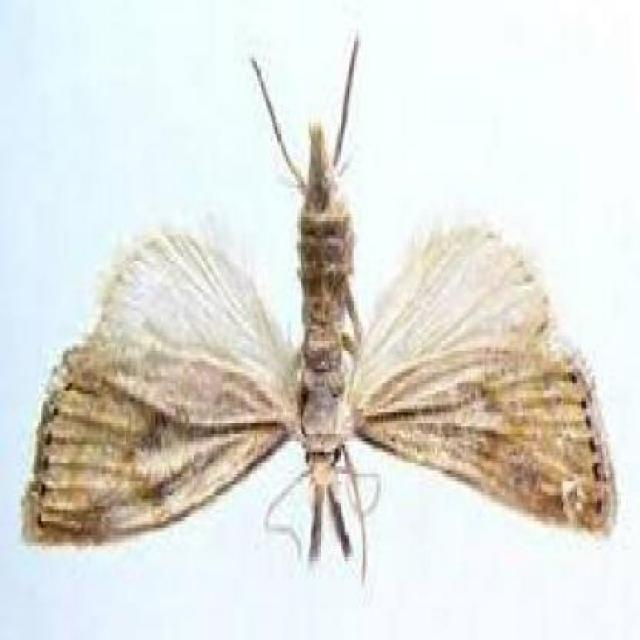stem-borer: (17, 31, 621, 591)
